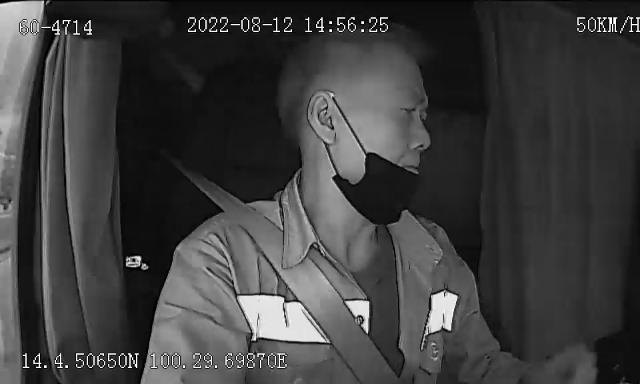Seatbelt: (194, 177, 402, 383)
